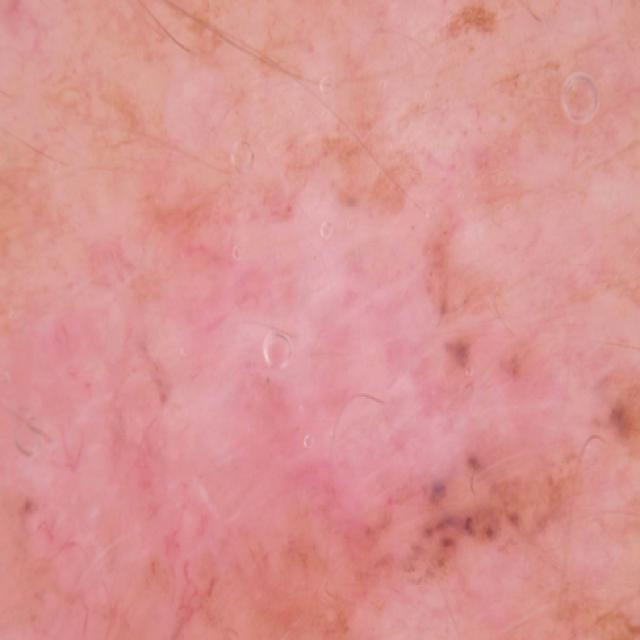Carcinoma: (0, 178, 640, 640)
